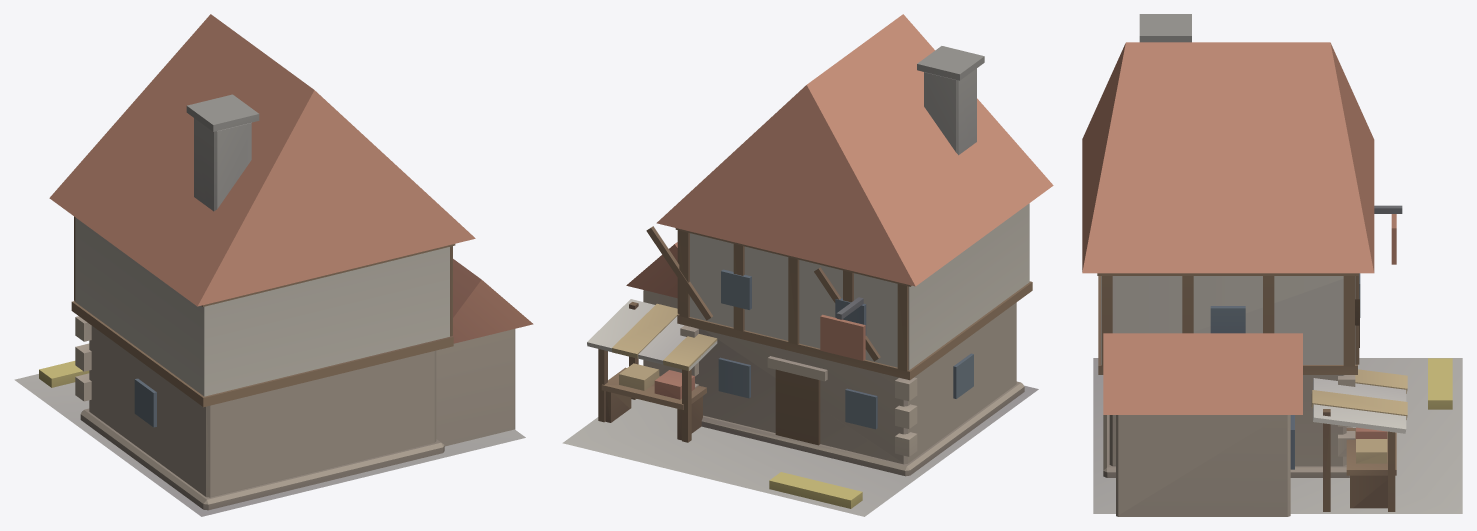
The model's file is house_merchants.v2.glb.
3 views of the same model, side by side, from view 1: azimuth 30°, elevation 25°; view 2: azimuth 150°, elevation 25°; view 3: azimuth 270°, elevation 25° (orthographic). The views are drawn at different scales.
Parts seen in each view (by area): view 1: house_merchants; view 2: house_merchants; view 3: house_merchants.
Boxes of the visible parts, x1,y1,x2,y2 form: house_merchants: (14,14,533,516); house_merchants: (562,14,1053,516); house_merchants: (1082,14,1462,516).
Bounding box in the file's own units: 3.17 × 3.36 × 3.05.
